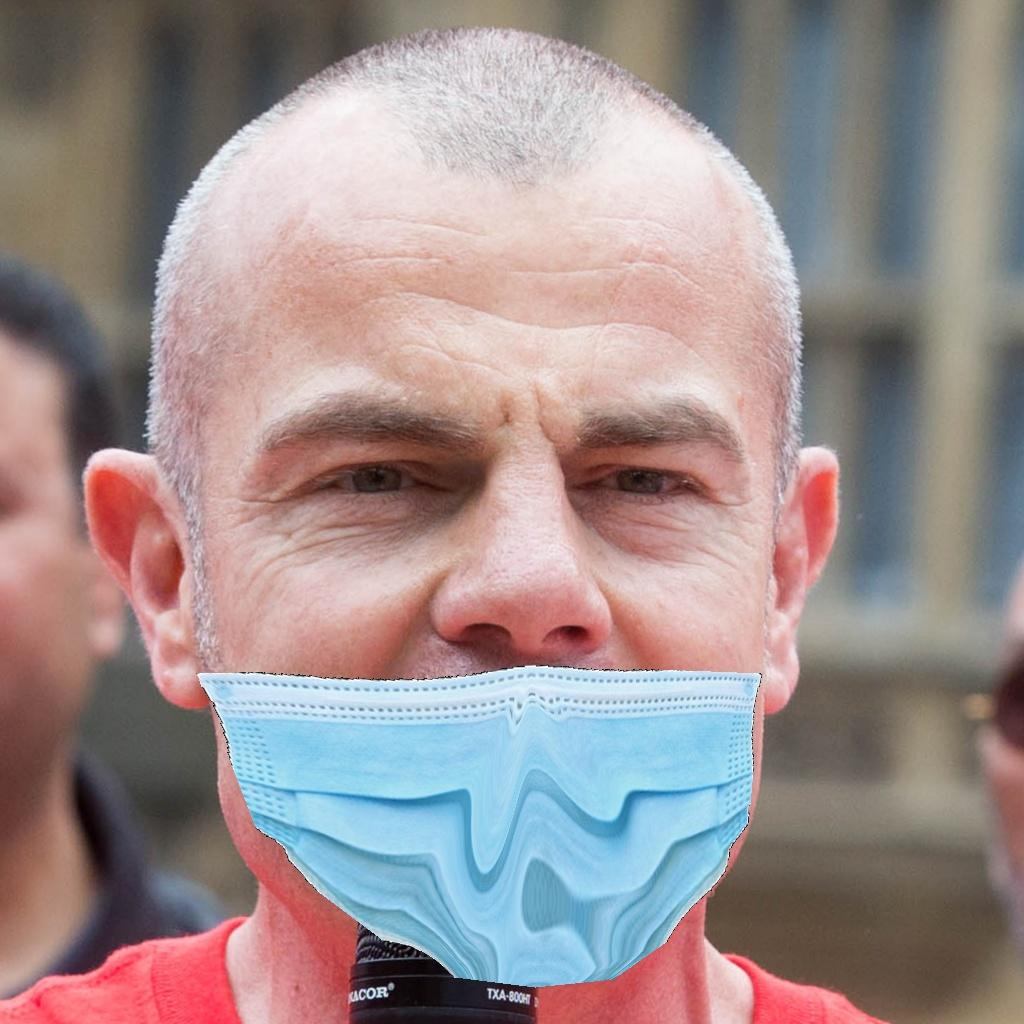Máscara Incorreta: (206, 318, 765, 961)
